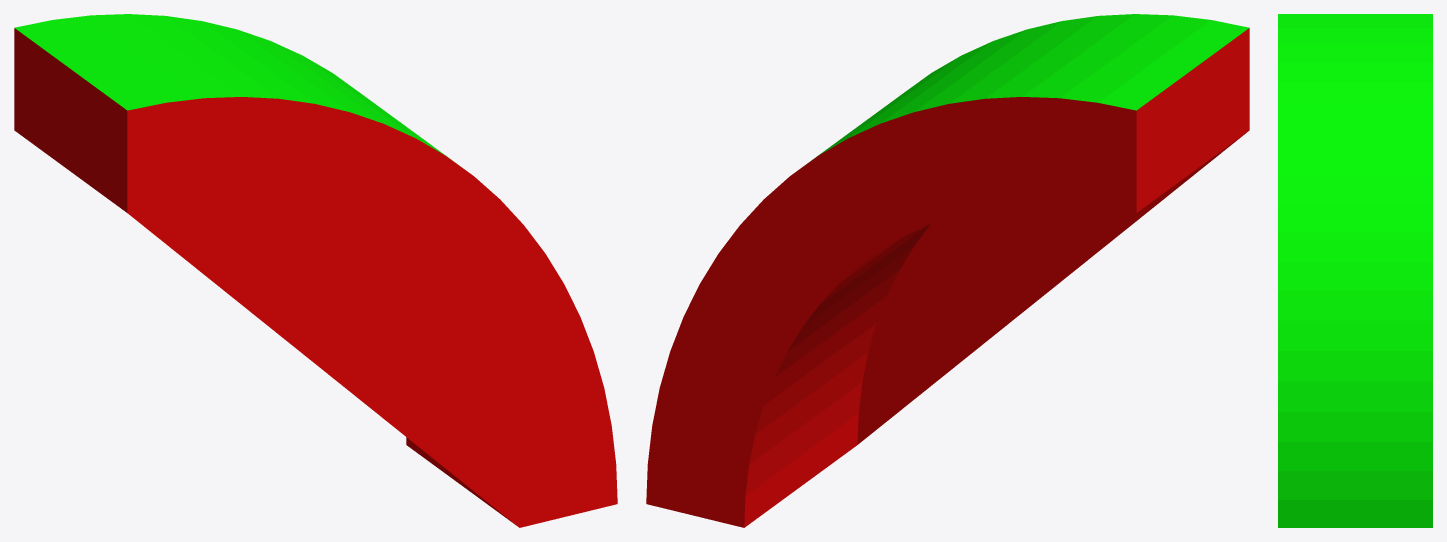
File: SegmentDown1.fbx
3 views of the same model, side by side, from view 1: azimuth 30°, elevation 25°; view 2: azimuth 150°, elevation 25°; view 3: azimuth 270°, elevation 25° (orthographic). The views are drawn at different scales.
Visible parts, largest first — view 1: Down_1; view 2: Down_1; view 3: Down_1.
Boxes of the visible parts, left/top/right/bottom form: Down_1: left=14, top=14, right=617, bottom=527; Down_1: left=646, top=14, right=1249, bottom=527; Down_1: left=1278, top=14, right=1432, bottom=527.
Bounding box in the file's own units: 500 × 500 × 200.
